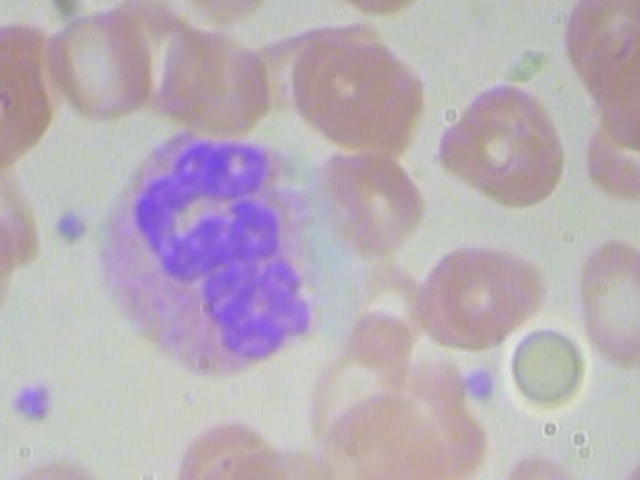Platelets: (52, 205, 95, 253), (10, 375, 53, 423), (461, 364, 496, 405)
WBC: (92, 119, 341, 382)
